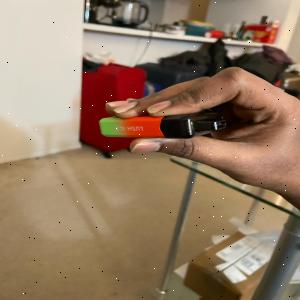Swift-E-Ciggirate: (91, 110, 236, 141)
